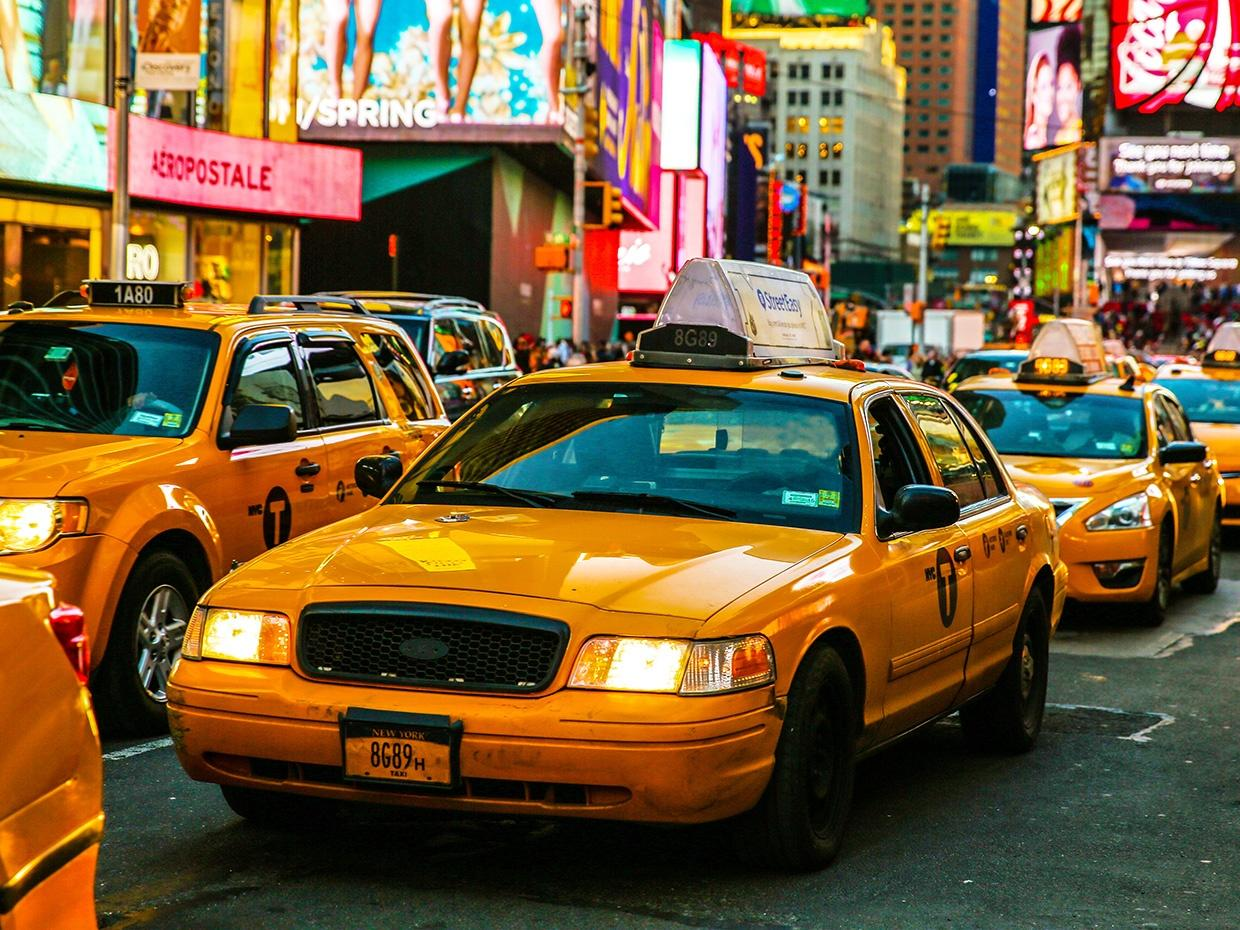taxi: (163, 349, 1086, 862)
